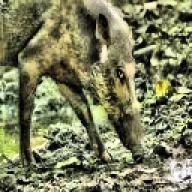boar: (0, 0, 146, 177)
